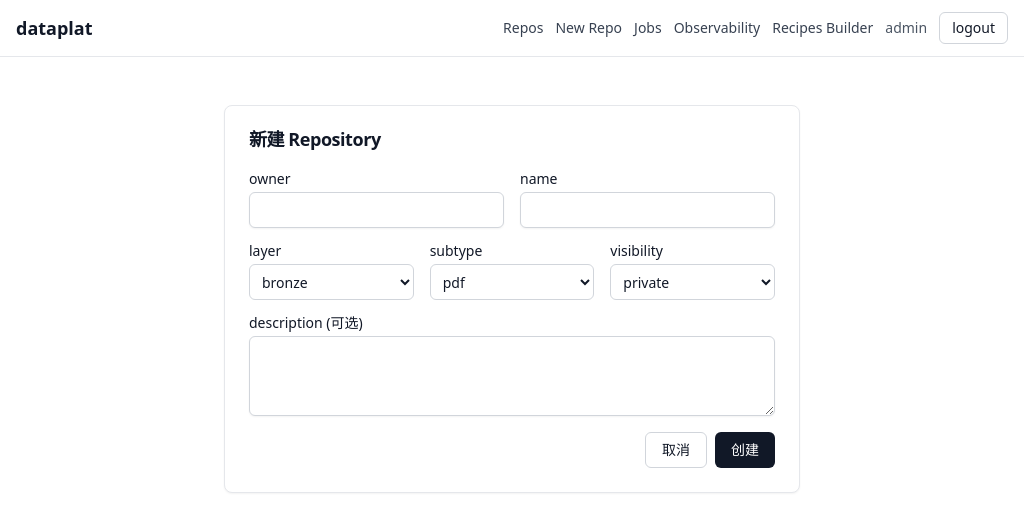
/repos/new › shows owner/name required errors when submitting empty
Click the button "创建": click(745, 450) [715,432,775,468]
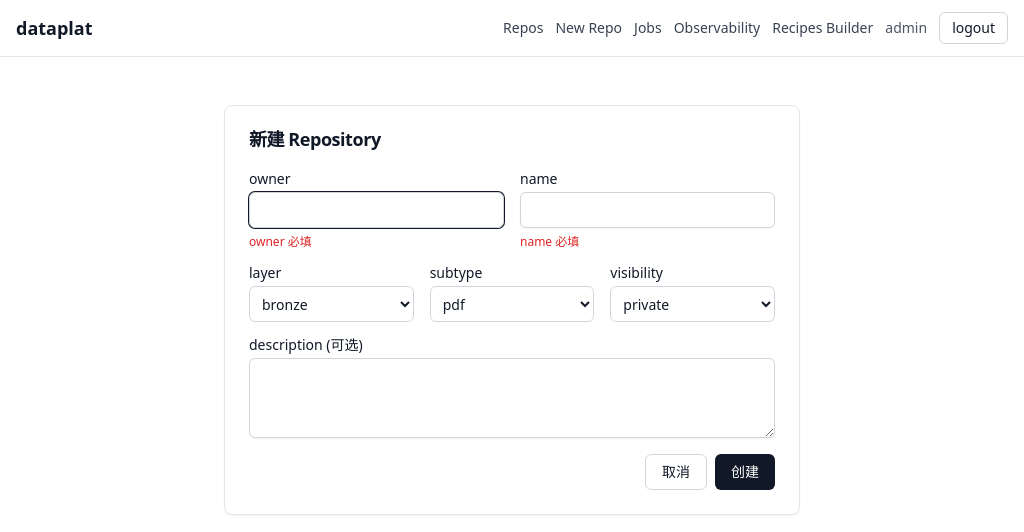
Expected: the text "owner 必填" is shown, [249,233,312,250]
